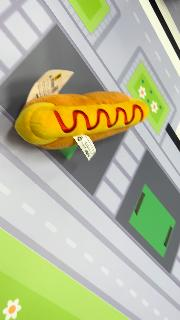hotdog: (14, 91, 150, 151)
